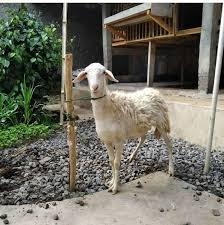Sheep: (75, 57, 123, 115)
